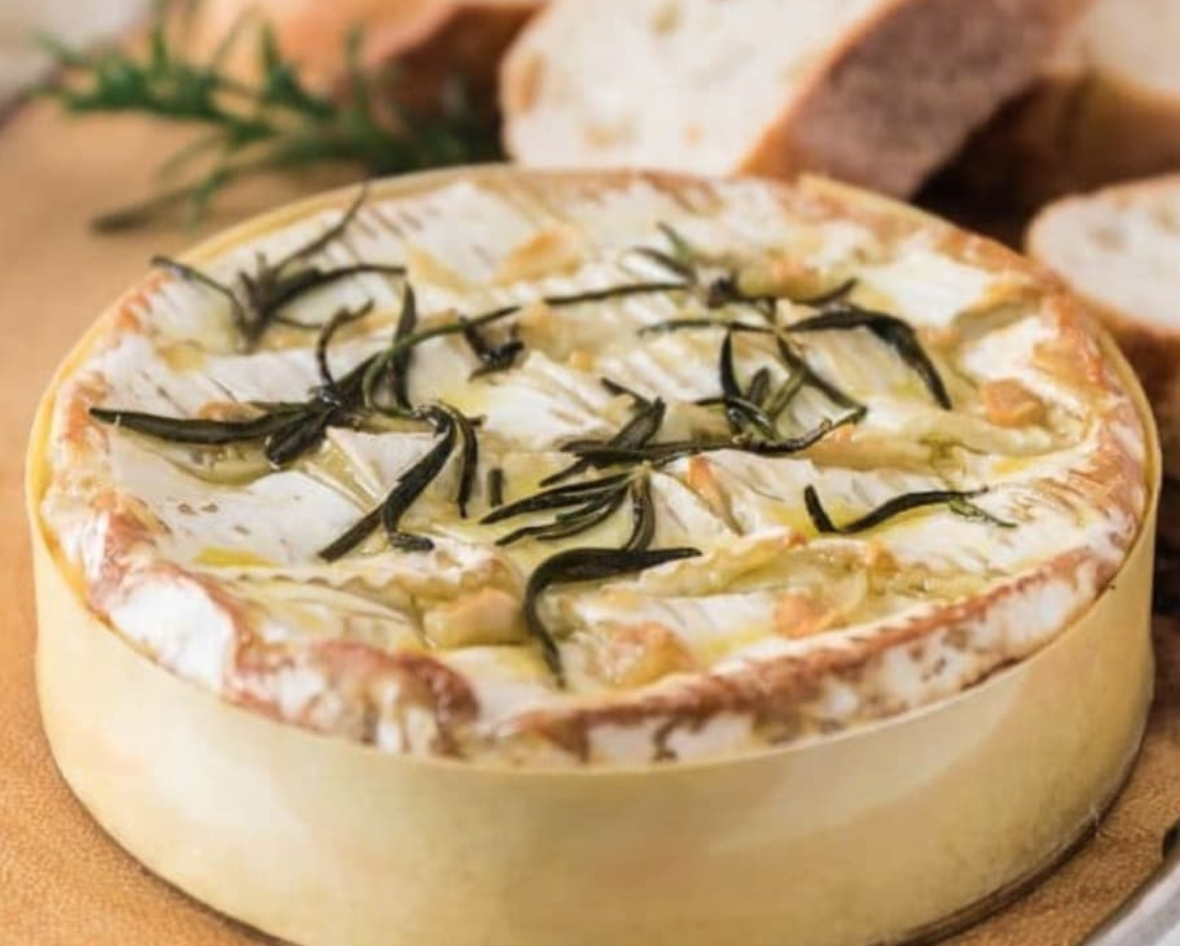camembert: (30, 165, 1159, 775)
